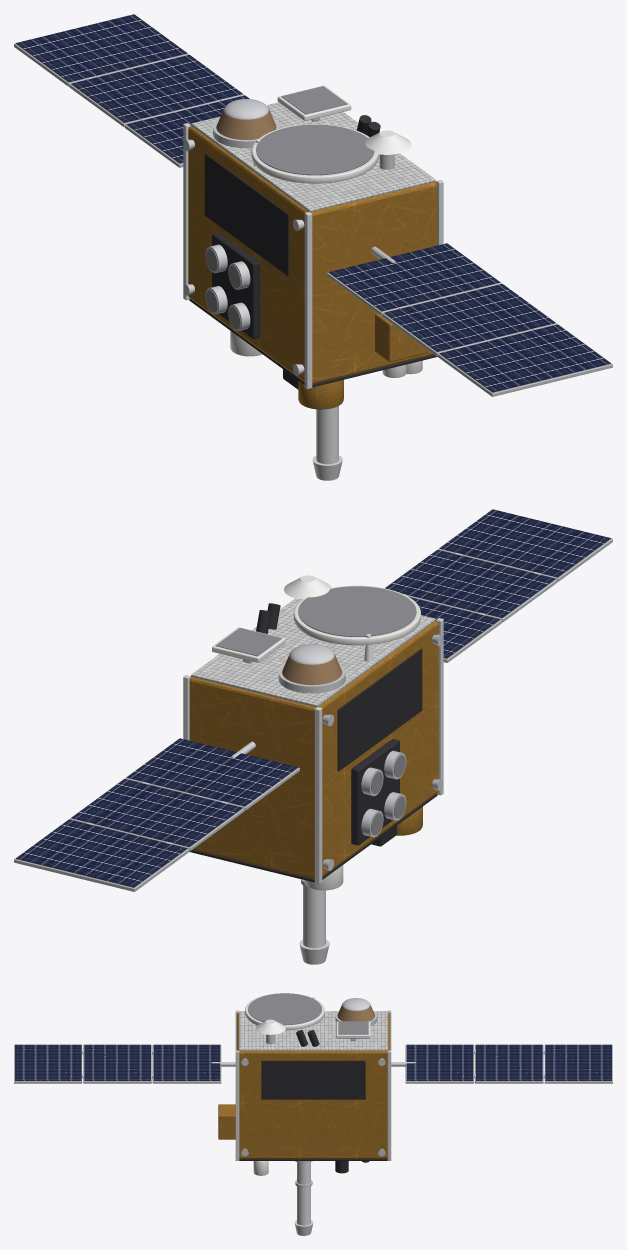
The model's file is probe-hayabusa2.glb.
3 renders of one model, top to bottom at view 1: azimuth 30°, elevation 25°; view 2: azimuth 150°, elevation 25°; view 3: azimuth 270°, elevation 25°, orthographic. The views are drawn at different scales.
Parts seen in each view (by area): view 1: Hayabusa2; view 2: Hayabusa2; view 3: Hayabusa2.
Boxes of the visible parts, box(x1,y1,x2,y2) form: Hayabusa2: box(14, 14, 612, 480); Hayabusa2: box(14, 509, 612, 964); Hayabusa2: box(14, 993, 612, 1235).
Size of the model in its own units: 1.18 by 2.57 by 6.3.
Materials: 11 (3 with a texture image).
